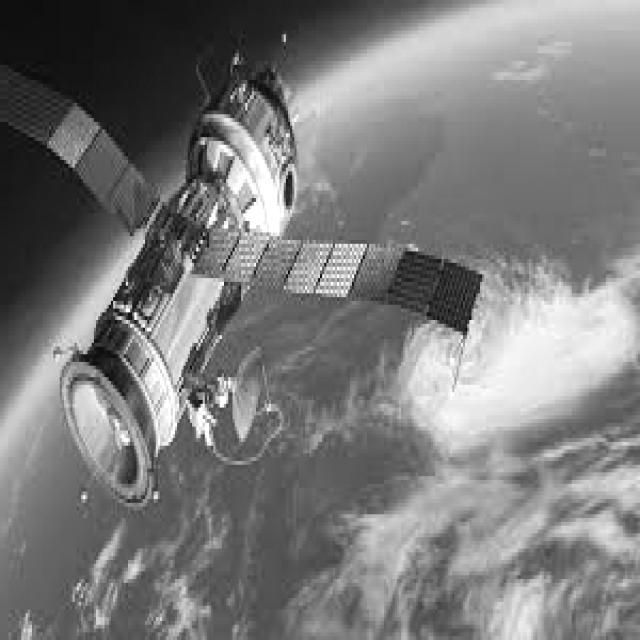medium_debris: (1, 65, 481, 501)
